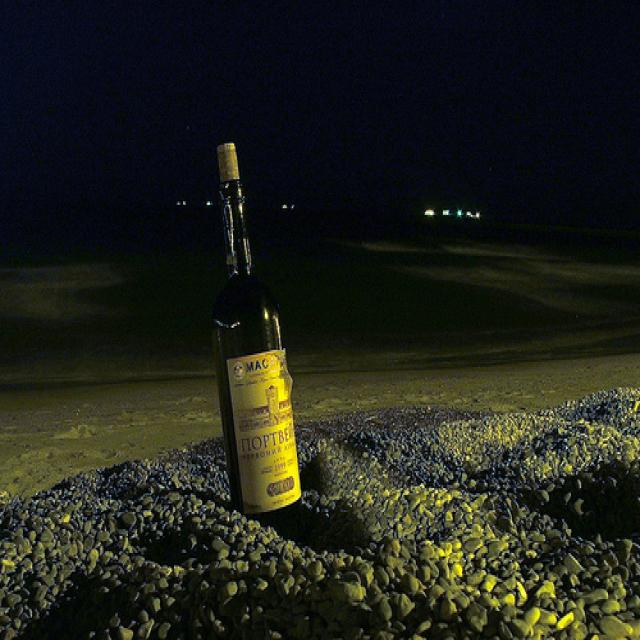Bottle: (201, 118, 317, 533)
